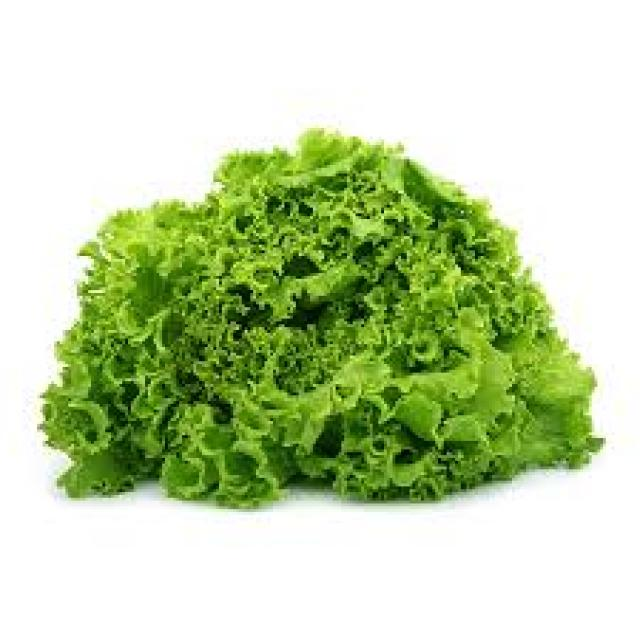organic waste: (37, 125, 606, 504)
